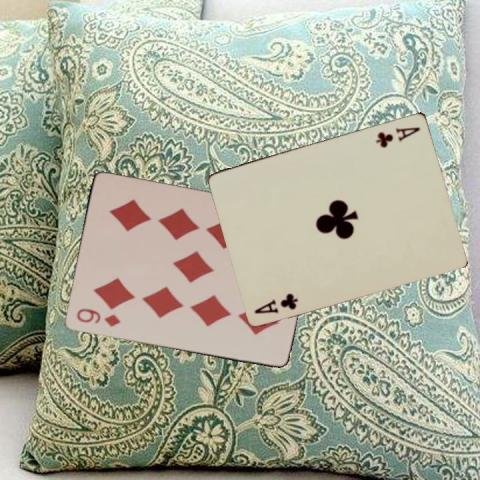9d: (73, 305, 122, 329)
Ac: (373, 123, 422, 148), (252, 290, 300, 315)
